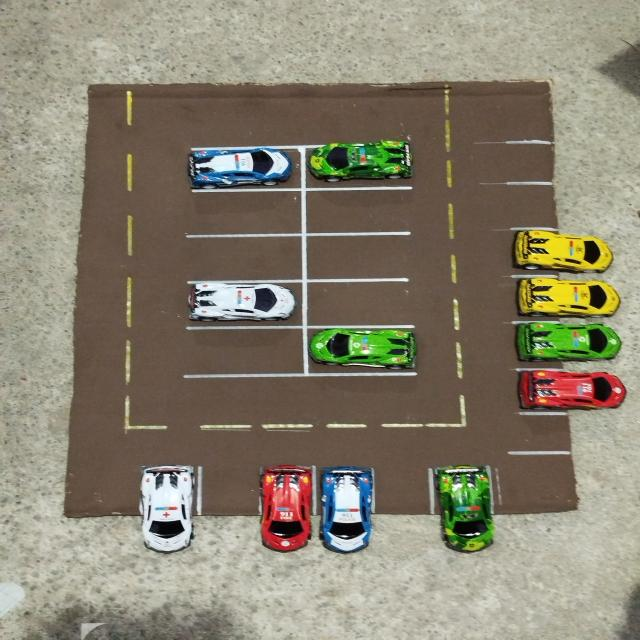libre: (64, 464, 136, 554), (178, 233, 304, 281), (180, 326, 306, 374), (177, 187, 304, 234), (198, 463, 260, 555), (302, 187, 422, 234), (478, 140, 598, 187), (373, 462, 432, 554), (304, 279, 418, 326), (304, 232, 418, 278), (508, 414, 628, 454), (494, 187, 607, 228)
no_estacionarse: (491, 453, 585, 516)
ocupado: (427, 461, 497, 553), (179, 280, 308, 328), (303, 326, 419, 376), (504, 274, 623, 322), (137, 464, 198, 556), (314, 464, 374, 557), (507, 368, 630, 413), (507, 323, 624, 368), (259, 464, 314, 556), (504, 229, 616, 274), (180, 149, 302, 188), (303, 144, 414, 186)
